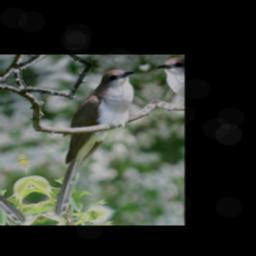Cuckoo: (14, 65, 172, 218)
